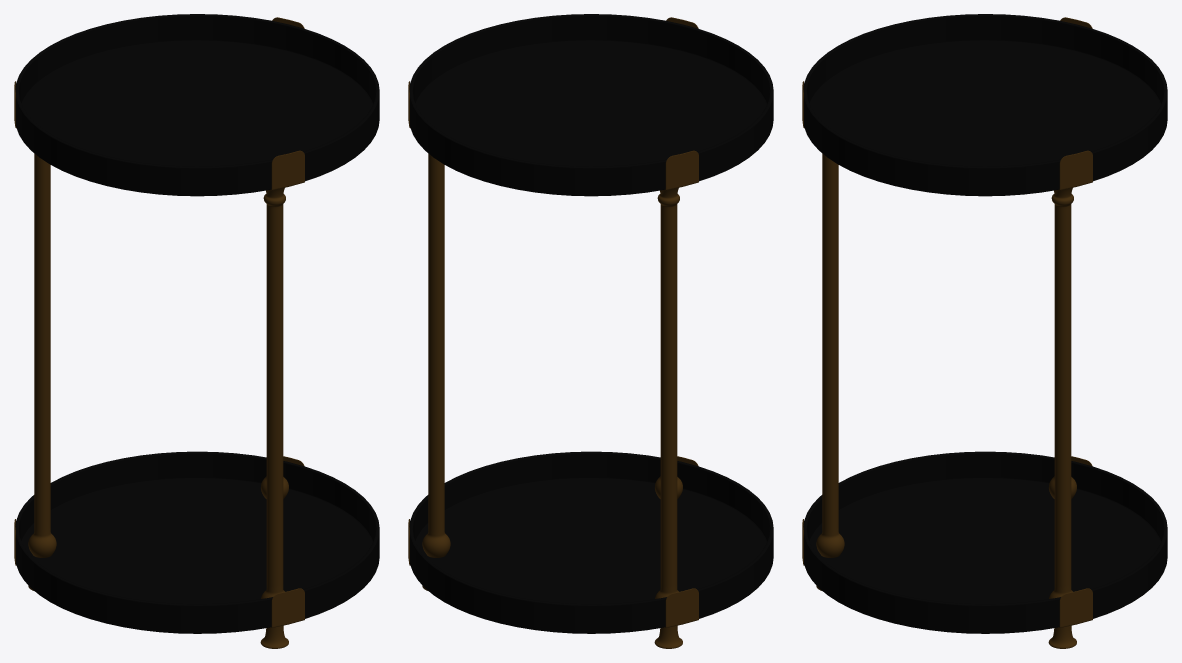
The picture shows the model from 3 angles, left to right: view 1: azimuth 30°, elevation 25°; view 2: azimuth 150°, elevation 25°; view 3: azimuth 270°, elevation 25°; orthographic projection.
Visible parts, largest first — view 1: Table 140; view 2: Table 140; view 3: Table 140.
Part boxes in pixels (x1=…): Table 140: x1=14, y1=14, x2=379, y2=648; Table 140: x1=408, y1=14, x2=773, y2=648; Table 140: x1=802, y1=14, x2=1167, y2=648.
Size of the model in its own units: 40 by 60.5 by 40.1.
